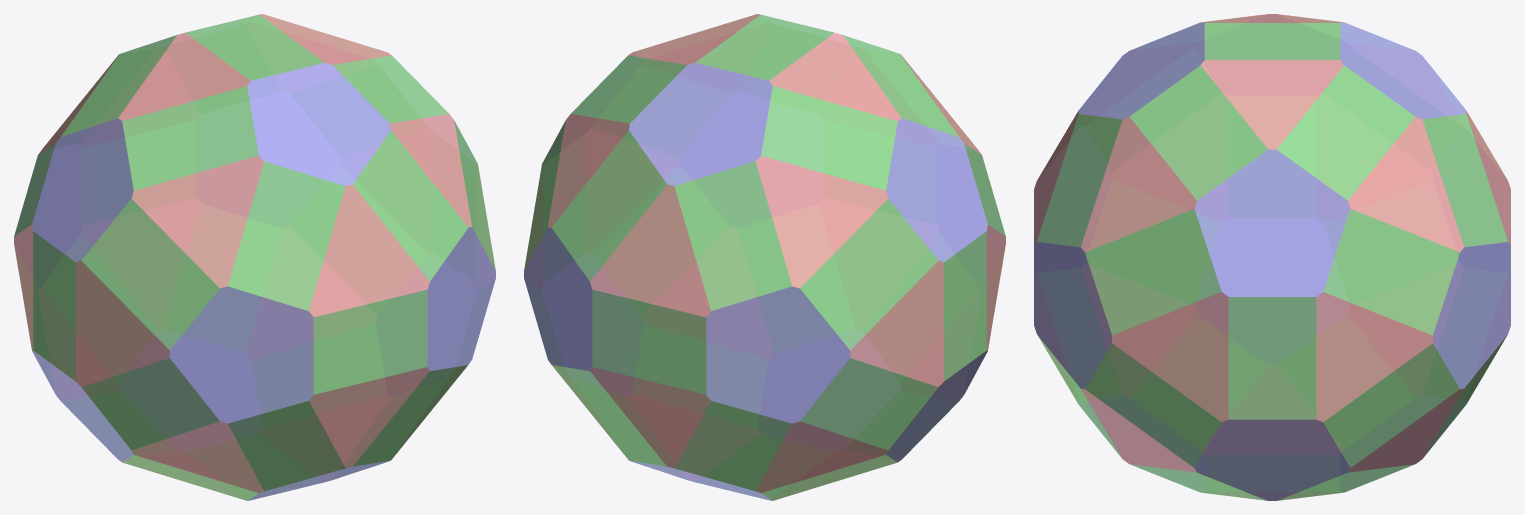
Rendered from BiscribedTruncatedIcosidodecahedron.obj.
3 views of the same model, side by side, from view 1: azimuth 30°, elevation 25°; view 2: azimuth 150°, elevation 25°; view 3: azimuth 270°, elevation 25° (orthographic). The views are drawn at different scales.
Size of the model in its own units: 2 by 2 by 2.
